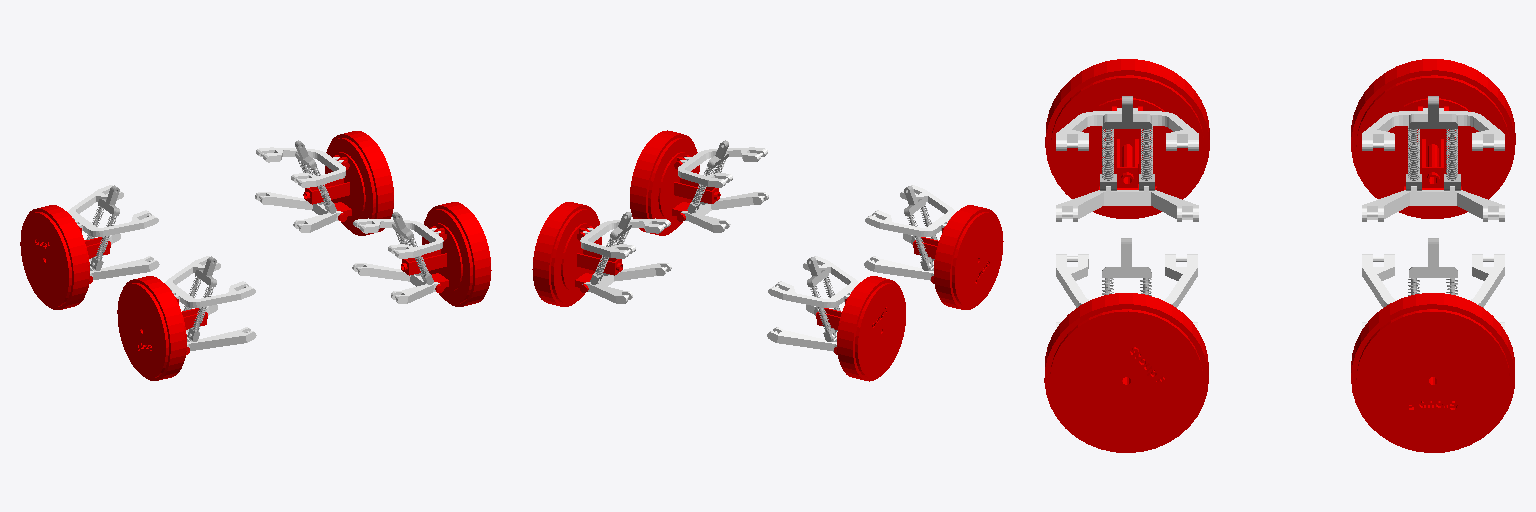
--- Render facts (derived) ---
The picture shows the robot from 3 angles, left to right: view 1: azimuth 30°, elevation 25°; view 2: azimuth 150°, elevation 25°; view 3: azimuth 270°, elevation 25°; orthographic projection.
Robot: prototype_urdf2 — 29 links, 28 joints (16 revolute, 4 continuous, 4 prismatic, 4 fixed); root link base_link; default pose: every joint at zero.
Links seen in each view (by area): view 1: Back_Right_Wheel, Front_Right_Wheel, Front_Left_Wheel, Back_Left_Wheel, Front_Left_Wheel_Connect_U, Back_Left_Wheel_Connect_U, Back_Right_Upper_Arm, Front_Right_Upper_Arm, Back_Left_Upper_Arm, Front_Left_Upper_Arm, Front_Left_Lower_Arm, Back_Left_Lower_Arm (+6 smaller); view 2: Front_Right_Wheel, Back_Right_Wheel, Back_Left_Wheel, Front_Left_Wheel, Back_Left_Wheel_Connect_U, Front_Left_Wheel_Connect_U, Front_Right_Upper_Arm, Back_Right_Upper_Arm, Front_Left_Upper_Arm, Back_Left_Upper_Arm, Front_Left_Lower_Arm, Back_Left_Lower_Arm (+6 smaller); view 3: Front_Left_Wheel, Back_Left_Wheel, Back_Right_Wheel, Front_Right_Wheel, Front_Right_Wheel_Connect_U, Back_Right_Wheel_Connect_U, Back_Right_Lower_Arm, Front_Right_Lower_Arm_S, Front_Right_Suspension, Back_Right_Suspension, Front_Right_Upper_Arm, Back_Right_Upper_Arm (+4 smaller).
Link boxes in pixels (x1,y1,x2,y2): Back_Right_Wheel: (20, 205, 110, 309); Front_Right_Wheel: (117, 276, 207, 380); Front_Left_Wheel: (401, 202, 491, 306); Back_Left_Wheel: (303, 131, 393, 235); Front_Left_Wheel_Connect_U: (402, 223, 462, 292); Back_Left_Wheel_Connect_U: (305, 152, 365, 221); Back_Right_Upper_Arm: (68, 185, 158, 236); Front_Right_Upper_Arm: (165, 256, 255, 307); Back_Left_Upper_Arm: (256, 147, 345, 187); Front_Left_Upper_Arm: (353, 218, 443, 258); Front_Left_Lower_Arm: (352, 263, 439, 303); Back_Left_Lower_Arm: (255, 192, 342, 232); Front_Right_Wheel: (913, 205, 1003, 309); Back_Right_Wheel: (816, 276, 905, 381); Back_Left_Wheel: (532, 202, 622, 306); Front_Left_Wheel: (630, 130, 720, 235); Back_Left_Wheel_Connect_U: (561, 223, 621, 292); Front_Left_Wheel_Connect_U: (658, 152, 718, 221); Front_Right_Upper_Arm: (865, 185, 955, 236); Back_Right_Upper_Arm: (768, 256, 858, 307); Front_Left_Upper_Arm: (678, 147, 767, 187); Back_Left_Upper_Arm: (580, 218, 670, 258); Front_Left_Lower_Arm: (681, 192, 768, 232); Back_Left_Lower_Arm: (582, 263, 671, 303); Front_Left_Wheel: (1044, 293, 1208, 452); Back_Left_Wheel: (1351, 293, 1514, 452); Back_Right_Wheel: (1351, 59, 1515, 218); Front_Right_Wheel: (1045, 59, 1209, 218); Front_Right_Wheel_Connect_U: (1073, 98, 1181, 189); Back_Right_Wheel_Connect_U: (1378, 98, 1487, 190); Back_Right_Lower_Arm: (1362, 186, 1504, 221); Front_Right_Lower_Arm_S: (1056, 186, 1198, 221); Front_Right_Suspension: (1100, 96, 1154, 190); Back_Right_Suspension: (1406, 96, 1460, 190); Front_Right_Upper_Arm: (1056, 108, 1198, 150); Back_Right_Upper_Arm: (1362, 108, 1504, 150).
Bounding box of the posed robot: 0.5398 × 0.4294 × 0.164 m (x, y, z).
20 mesh visuals loaded from 29 distinct referenced files (20 binary STL); not drawn: 9 (reference not matched to a file when rendering).

The robot description file, URDF, robot "prototype_urdf2":
<?xml version="1.0" encoding="utf-8"?>
<!-- This URDF was automatically created by SolidWorks to URDF Exporter! Originally created by Stephen Brawner ([email redacted]) 
     Commit Version: 1.5.1-0-g916b5db  Build Version: 1.5.7152.31018
     For more information, please see http://wiki.ros.org/sw_urdf_exporter -->
<robot
  name="prototype_urdf2">
  <link
    name="base_link">
    <inertial>
      <origin
        xyz="4.8151E-05 0.14906 0.14691"
        rpy="0 0 0" />
      <mass
        value="5.1718" />
      <inertia
        ixx="0.012199"
        ixy="-3.0277E-07"
        ixz="-0.00011127"
        iyy="0.072636"
        iyz="1.8521E-06"
        izz="0.068154" />
    </inertial>
    <visual>
      <origin
        xyz="0 0 0"
        rpy="0 0 0" />
      <geometry>
        <mesh
          filename="package://prototype_urdf2/meshes/base_link.STL" />
      </geometry>
      <material
        name="">
        <color
          rgba="0.75294 0.75294 0.75294 1" />
      </material>
    </visual>
    <collision>
      <origin
        xyz="0 0 0"
        rpy="0 0 0" />
      <geometry>
        <mesh
          filename="package://prototype_urdf2/meshes/base_link.STL" />
      </geometry>
    </collision>
  </link>
  <link
    name="Front_Left_Upper_Arm">
    <inertial>
      <origin
        xyz="6.6613E-16 0.0147 0.005"
        rpy="0 0 0" />
      <mass
        value="0.035646" />
      <inertia
        ixx="3.835E-05"
        ixy="1.5009E-18"
        ixz="4.9911E-19"
        iyy="6.6493E-05"
        iyz="1.8691E-20"
        izz="0.00010426" />
    </inertial>
    <visual>
      <origin
        xyz="0 0 0"
        rpy="0 0 0" />
      <geometry>
        <mesh
          filename="package://prototype_urdf2/meshes/Front_Left_Upper_Arm.STL" />
      </geometry>
      <material
        name="">
        <color
          rgba="1 1 1 1" />
      </material>
    </visual>
    <collision>
      <origin
        xyz="0 0 0"
        rpy="0 0 0" />
      <geometry>
        <mesh
          filename="package://prototype_urdf2/meshes/Front_Left_Upper_Arm.STL" />
      </geometry>
    </collision>
  </link>
  <joint
    name="base_joint_FLUA"
    type="revolute">
    <origin
      xyz="0.15448 -0.14429 0.12049"
      rpy="-0.1407 0 -1.5726" />
    <parent
      link="base_link" />
    <child
      link="Front_Left_Upper_Arm" />
    <axis
      xyz="-1 0 0" />
    <limit
      lower="0"
      upper="0"
      effort="0"
      velocity="0" />
  </joint>
  <link
    name="Front_Left_Wheel_Connect_U">
    <inertial>
      <origin
        xyz="1.9429E-16 -0.011825 -0.0047437"
        rpy="0 0 0" />
      <mass
        value="4.2725E-05" />
      <inertia
        ixx="4.0077E-08"
        ixy="-4.7098E-23"
        ixz="1.4089E-23"
        iyy="4.5681E-08"
        iyz="-1.4715E-09"
        izz="2.8052E-08" />
    </inertial>
    <visual>
      <origin
        xyz="0 0 0"
        rpy="0 0 0" />
      <geometry>
        <mesh
          filename="package://prototype_urdf2/meshes/Front_Left_Wheel_Connect_U.STL" />
      </geometry>
      <material
        name="">
        <color
          rgba="1 0 0 1" />
      </material>
    </visual>
    <collision>
      <origin
        xyz="0 0 0"
        rpy="0 0 0" />
      <geometry>
        <mesh
          filename="package://prototype_urdf2/meshes/Front_Left_Wheel_Connect_U.STL" />
      </geometry>
    </collision>
  </link>
  <joint
    name="FLUA_joint_FLWC"
    type="revolute">
    <origin
      xyz="0 0.084743 -0.032957"
      rpy="0.1407 0 0" />
    <parent
      link="Front_Left_Upper_Arm" />
    <child
      link="Front_Left_Wheel_Connect_U" />
    <axis
      xyz="1 0 0" />
    <limit
      lower="0"
      upper="0"
      effort="0"
      velocity="0" />
  </joint>
  <link
    name="Front_Left_Wheel">
    <inertial>
      <origin
        xyz="1.4086E-06 -0.018579 -3.15E-05"
        rpy="0 0 0" />
      <mass
        value="0.0005833" />
      <inertia
        ixx="8.6958E-07"
        ixy="1.2157E-11"
        ixz="-1.9549E-11"
        iyy="1.6137E-06"
        iyz="-2.7388E-10"
        izz="8.6989E-07" />
    </inertial>
    <visual>
      <origin
        xyz="0 0 0"
        rpy="0 0 0" />
      <geometry>
        <mesh
          filename="package://prototype_urdf2/meshes/Front_Left_Wheel.STL" />
      </geometry>
      <material
        name="">
        <color
          rgba="1 0 0 1" />
      </material>
    </visual>
    <collision>
      <origin
        xyz="0 0 0"
        rpy="0 0 0" />
      <geometry>
        <mesh
          filename="package://prototype_urdf2/meshes/Front_Left_Wheel.STL" />
      </geometry>
    </collision>
  </link>
  <joint
    name="FLWC_joint_FLW"
    type="continuous">
    <origin
      xyz="0 0 0"
      rpy="0 0.87883 -3.1416" />
    <parent
      link="Front_Left_Wheel_Connect_U" />
    <child
      link="Front_Left_Wheel" />
    <axis
      xyz="0 1 0" />
    <limit
      effort="3.1"
      velocity="7" />
    <dynamics
      damping="0"
      friction="0" />
  </joint>
  <link
    name="Front_Left_Lower_Arm">
    <inertial>
      <origin
        xyz="-2.7756E-17 0.013612 0.0065523"
        rpy="0 0 0" />
      <mass
        value="0.037752" />
      <inertia
        ixx="2.6733E-05"
        ixy="-1.1805E-19"
        ixz="-7.6023E-20"
        iyy="6.0063E-05"
        iyz="-2.223E-07"
        izz="8.5645E-05" />
    </inertial>
    <visual>
      <origin
        xyz="0 0 0"
        rpy="0 0 0" />
      <geometry>
        <mesh
          filename="package://prototype_urdf2/meshes/Front_Left_Lower_Arm.STL" />
      </geometry>
      <material
        name="">
        <color
          rgba="1 1 1 1" />
      </material>
    </visual>
    <collision>
      <origin
        xyz="0 0 0"
        rpy="0 0 0" />
      <geometry>
        <mesh
          filename="package://prototype_urdf2/meshes/Front_Left_Lower_Arm.STL" />
      </geometry>
    </collision>
  </link>
  <joint
    name="base_joint_FLLA"
    type="revolute">
    <origin
      xyz="0.14944 -0.14428 0.047772"
      rpy="-0.21347 0 -1.5726" />
    <parent
      link="base_link" />
    <child
      link="Front_Left_Lower_Arm" />
    <axis
      xyz="1 0 0" />
    <limit
      lower="0"
      upper="0"
      effort="0"
      velocity="0" />
  </joint>
  <link
    name="Front_Left_Wheel_Connect_L">
    <inertial>
      <origin
        xyz="1.66533453693773E-16 -0.01182470467978 -0.00474369285104252"
        rpy="0 0 0" />
      <mass
        value="4.27254738673187E-05" />
      <inertia
        ixx="4.00769893258482E-08"
        ixy="-3.38045451895694E-23"
        ixz="1.64898971111911E-23"
        iyy="4.56805348900452E-08"
        iyz="-1.47149337236907E-09"
        izz="2.805162477184E-08" />
    </inertial>
    <visual>
      <origin
        xyz="0 0 0"
        rpy="0 0 0" />
      <geometry>
        <mesh
          filename="package://prototype_urdf2/meshes/Front_Left_Wheel_Connect_L.STL" />
      </geometry>
      <material
        name="">
        <color
          rgba="1 0 0 1" />
      </material>
    </visual>
    <collision>
      <origin
        xyz="0 0 0"
        rpy="0 0 0" />
      <geometry>
        <mesh
          filename="package://prototype_urdf2/meshes/Front_Left_Wheel_Connect_L.STL" />
      </geometry>
    </collision>
  </link>
  <joint
    name="FLLA_joint_FLWC"
    type="revolute">
    <origin
      xyz="0 0.076435 0.045428"
      rpy="0.21347 0 0" />
    <parent
      link="Front_Left_Lower_Arm" />
    <child
      link="Front_Left_Wheel_Connect_L" />
    <axis
      xyz="-1 0 0" />
    <limit
      lower="0"
      upper="0"
      effort="0"
      velocity="0" />
  </joint>
  <link
    name="Front_Left_Suspension">
    <inertial>
      <origin
        xyz="-0.02505 0.0053253 0.057836"
        rpy="0 0 0" />
      <mass
        value="0.097501" />
      <inertia
        ixx="7.9254E-06"
        ixy="2.402E-09"
        ixz="2.0772E-08"
        iyy="1.8592E-05"
        iyz="-7.2341E-07"
        izz="1.2438E-05" />
    </inertial>
    <visual>
      <origin
        xyz="0 0 0"
        rpy="0 0 0" />
      <geometry>
        <mesh
          filename="package://prototype_urdf2/meshes/Front_Left_Suspension.STL" />
      </geometry>
      <material
        name="">
        <color
          rgba="0.75294 0.75294 0.75294 1" />
      </material>
    </visual>
    <collision>
      <origin
        xyz="0 0 0"
        rpy="0 0 0" />
      <geometry>
        <mesh
          filename="package://prototype_urdf2/meshes/Front_Left_Suspension.STL" />
      </geometry>
    </collision>
  </link>
  <joint
    name="base_joint_FLS"
    type="prismatic">
    <origin
      xyz="0.16284 -0.086237 0.1322"
      rpy="-1.4553 -1.1874 3.1397" />
    <parent
      link="base_link" />
    <child
      link="Front_Left_Suspension" />
    <axis
      xyz="0 -0.11521 -0.99334" />
    <limit
      lower="-0.04"
      upper="0"
      effort="1000"
      velocity="1000" />
    <dynamics
      damping="0"
      friction="0" />
  </joint>
  <link
    name="Front_Left_Lower_Arm_S">
    <inertial>
      <origin
        xyz="-2.77555756156289E-17 0.013612079592021 0.00655228418322651"
        rpy="0 0 0" />
      <mass
        value="0.0377520303994239" />
      <inertia
        ixx="2.67333578708892E-05"
        ixy="-1.1777728433775E-19"
        ixz="-7.73430416349332E-20"
        iyy="6.00628817070965E-05"
        iyz="-2.22296810574117E-07"
        izz="8.56446705491993E-05" />
    </inertial>
    <visual>
      <origin
        xyz="0 0 0"
        rpy="0 0 0" />
      <geometry>
        <mesh
          filename="package://prototype_urdf2/meshes/Front_Left_Lower_Arm_S.STL" />
      </geometry>
      <material
        name="">
        <color
          rgba="1 1 1 1" />
      </material>
    </visual>
    <collision>
      <origin
        xyz="0 0 0"
        rpy="0 0 0" />
      <geometry>
        <mesh
          filename="package://prototype_urdf2/meshes/Front_Left_Lower_Arm_S.STL" />
      </geometry>
    </collision>
  </link>
  <joint
    name="FLS_joint_FLLA"
    type="fixed">
    <origin
      xyz="-0.073326 0.050307 0.052619"
      rpy="0.97395 -1.4553 1.5708" />
    <parent
      link="Front_Left_Suspension" />
    <child
      link="Front_Left_Lower_Arm_S" />
    <axis
      xyz="0 0 0" />
    <dynamics
      damping="0"
      friction="0" />
  </joint>
  <link
    name="Back_Left_Upper_Arm">
    <inertial>
      <origin
        xyz="2.77555756156289E-17 -0.0147001536622141 -0.005"
        rpy="0 0 0" />
      <mass
        value="0.0356457256760713" />
      <inertia
        ixx="3.83497573600796E-05"
        ixy="-8.08469759769435E-20"
        ixz="-2.31852808455335E-20"
        iyy="6.64927053825921E-05"
        iyz="-2.71050543121376E-20"
        izz="0.000104259142609384" />
    </inertial>
    <visual>
      <origin
        xyz="0 0 0"
        rpy="0 0 0" />
      <geometry>
        <mesh
          filename="package://prototype_urdf2/meshes/Back_Left_Upper_Arm.STL" />
      </geometry>
      <material
        name="">
        <color
          rgba="1 1 1 1" />
      </material>
    </visual>
    <collision>
      <origin
        xyz="0 0 0"
        rpy="0 0 0" />
      <geometry>
        <mesh
          filename="package://prototype_urdf2/meshes/Back_Left_Upper_Arm.STL" />
      </geometry>
    </collision>
  </link>
  <joint
    name="base_joint_BLUA"
    type="revolute">
    <origin
      xyz="0.15447 0.135 0.12049"
      rpy="3.0009 0 -1.5708" />
    <parent
      link="base_link" />
    <child
      link="Back_Left_Upper_Arm" />
    <axis
      xyz="1 0 0" />
    <limit
      lower="0"
      upper="0"
      effort="0"
      velocity="0" />
  </joint>
  <link
    name="Back_Left_Wheel_Connect_U">
    <inertial>
      <origin
        xyz="-1.3878E-16 0.011825 0.0047439"
        rpy="0 0 0" />
      <mass
        value="4.2725E-05" />
      <inertia
        ixx="4.0077E-08"
        ixy="-2.4975E-23"
        ixz="6.5432E-24"
        iyy="4.5681E-08"
        iyz="-1.4715E-09"
        izz="2.8052E-08" />
    </inertial>
    <visual>
      <origin
        xyz="0 0 0"
        rpy="0 0 0" />
      <geometry>
        <mesh
          filename="package://prototype_urdf2/meshes/Back_Left_Wheel_Connect_U.STL" />
      </geometry>
      <material
        name="">
        <color
          rgba="1 0 0 1" />
      </material>
    </visual>
    <collision>
      <origin
        xyz="0 0 0"
        rpy="0 0 0" />
      <geometry>
        <mesh
          filename="package://prototype_urdf2/meshes/Back_Left_Wheel_Connect_U.STL" />
      </geometry>
    </collision>
  </link>
  <joint
    name="BLUA_joint_BLWC"
    type="revolute">
    <origin
      xyz="0 -0.084743 0.032957"
      rpy="0.1407 0 0" />
    <parent
      link="Back_Left_Upper_Arm" />
    <child
      link="Back_Left_Wheel_Connect_U" />
    <axis
      xyz="1 0 0" />
    <limit
      lower="0"
      upper="0"
      effort="0"
      velocity="0" />
  </joint>
  <link
    name="Back_Left_Wheel">
    <inertial>
      <origin
        xyz="1.40862745898196E-06 -0.0185785956024857 -3.13163303364006E-05"
        rpy="0 0 0" />
      <mass
        value="0.000583296678332389" />
      <inertia
        ixx="8.6958020227038E-07"
        ixy="1.2156654097372E-11"
        ixz="-1.95489792553624E-11"
        iyy="1.61370446750533E-06"
        iyz="-2.73880661125538E-10"
        izz="8.69890840625022E-07" />
    </inertial>
    <visual>
      <origin
        xyz="0 0 0"
        rpy="0 0 0" />
      <geometry>
        <mesh
          filename="package://prototype_urdf2/meshes/Back_Left_Wheel.STL" />
      </geometry>
      <material
        name="">
        <color
          rgba="1 0 0 1" />
      </material>
    </visual>
    <collision>
      <origin
        xyz="0 0 0"
        rpy="0 0 0" />
      <geometry>
        <mesh
          filename="package://prototype_urdf2/meshes/Back_Left_Wheel.STL" />
      </geometry>
    </collision>
  </link>
  <joint
    name="BLWC_joint_BLW"
    type="continuous">
    <origin
      xyz="0 0 0"
      rpy="0 0 0" />
    <parent
      link="Back_Left_Wheel_Connect_U" />
    <child
      link="Back_Left_Wheel" />
    <axis
      xyz="0 1 0" />
    <limit
      effort="3.1"
      velocity="7" />
  </joint>
  <link
    name="Back_Left_Lower_Arm">
    <inertial>
      <origin
        xyz="2.77555756156289E-17 -0.0136120795920238 -0.00655228418322451"
        rpy="0 0 0" />
      <mass
        value="0.0377520303994239" />
      <inertia
        ixx="2.67333578708892E-05"
        ixy="-1.0339645159441E-19"
        ixz="-5.57410387269857E-20"
        iyy="6.00628817070965E-05"
        iyz="-2.22296810574141E-07"
        izz="8.56446705491993E-05" />
    </inertial>
    <visual>
      <origin
        xyz="0 0 0"
        rpy="0 0 0" />
      <geometry>
        <mesh
          filename="package://prototype_urdf2/meshes/Back_Left_Lower_Arm.STL" />
      </geometry>
      <material
        name="">
        <color
          rgba="1 1 1 1" />
      </material>
    </visual>
    <collision>
      <origin
        xyz="0 0 0"
        rpy="0 0 0" />
      <geometry>
        <mesh
          filename="package://prototype_urdf2/meshes/Back_Left_Lower_Arm.STL" />
      </geometry>
    </collision>
  </link>
  <joint
    name="base_joint_BLLA"
    type="revolute">
    <origin
      xyz="0.14944 0.135 0.047772"
      rpy="2.9281 0 -1.5708" />
    <parent
      link="base_link" />
    <child
      link="Back_Left_Lower_Arm" />
    <axis
      xyz="1 0 0" />
    <limit
      lower="0"
      upper="0"
      effort="0"
      velocity="0" />
  </joint>
  <link
    name="Back_Left_Wheel_Connect_L">
    <inertial>
      <origin
        xyz="-1.38777878078145E-16 0.0118247046797822 0.00474387706085233"
        rpy="0 0 0" />
      <mass
        value="4.27254738673186E-05" />
      <inertia
        ixx="4.0076989325848E-08"
        ixy="-2.49245205610583E-23"
        ixz="6.44597877411744E-24"
        iyy="4.56805348900451E-08"
        iyz="-1.47149337236906E-09"
        izz="2.805162477184E-08" />
    </inertial>
    <visual>
      <origin
        xyz="0 0 0"
        rpy="0 0 0" />
      <geometry>
        <mesh
          filename="package://prototype_urdf2/meshes/Back_Left_Wheel_Connect_L.STL" />
      </geometry>
      <material
        name="">
        <color
          rgba="1 0 0 1" />
      </material>
    </visual>
    <collision>
      <origin
        xyz="0 0 0"
        rpy="0 0 0" />
      <geometry>
        <mesh
          filename="package://prototype_urdf2/meshes/Back_Left_Wheel_Connect_L.STL" />
      </geometry>
    </collision>
  </link>
  <joint
    name="BLLA_joint_BLWC"
    type="revolute">
    <origin
      xyz="0 -0.076435 -0.045428"
      rpy="0.21347 0 0" />
    <parent
      link="Back_Left_Lower_Arm" />
    <child
      link="Back_Left_Wheel_Connect_L" />
    <axis
      xyz="-1 0 0" />
    <limit
      lower="0"
      upper="0"
      effort="0"
      velocity="0" />
  </joint>
  <link
    name="Back_Left_Suspension">
    <inertial>
      <origin
        xyz="-0.0250501195396812 0.00532528573434377 0.0578364361373781"
        rpy="0 0 0" />
      <mass
        value="0.0975010516337178" />
      <inertia
        ixx="7.92535130270424E-06"
        ixy="2.40205751875798E-09"
        ixz="2.07721001720025E-08"
        iyy="1.85918479783726E-05"
        iyz="-7.23412240509213E-07"
        izz="1.24383810777078E-05" />
    </inertial>
    <visual>
      <origin
        xyz="0 0 0"
        rpy="0 0 0" />
      <geometry>
        <mesh
          filename="package://prototype_urdf2/meshes/Back_Left_Suspension.STL" />
      </geometry>
      <material
        name="">
        <color
          rgba="0.752941176470588 0.752941176470588 0.752941176470588 1" />
      </material>
    </visual>
    <collision>
      <origin
        xyz="0 0 0"
        rpy="0 0 0" />
      <geometry>
        <mesh
          filename="package://prototype_urdf2/meshes/Back_Left_Suspension.STL" />
      </geometry>
    </collision>
  </link>
  <joint
    name="base_joint_BLS"
    type="prismatic">
    <origin
      xyz="0.16528 0.076934 0.13323"
      rpy="1.6863 -1.1874 -3.1416" />
    <parent
      link="base_link" />
    <child
      link="Back_Left_Suspension" />
    <axis
      xyz="0 -0.11521 -0.99334" />
    <limit
      lower="-0.04"
      upper="0"
      effort="1000"
      velocity="1000" />
    <dynamics
      damping="0"
      friction="0" />
  </joint>
  <link
    name="Back_Left_Upper_Arm_S">
    <inertial>
      <origin
        xyz="5.8287E-16 -0.013612 -0.0065523"
        rpy="0 0 0" />
      <mass
        value="0.037752" />
      <inertia
        ixx="2.6733E-05"
        ixy="-1.0752E-19"
        ixz="-5.4113E-20"
        iyy="6.0063E-05"
        iyz="-2.223E-07"
        izz="8.5645E-05" />
    </inertial>
    <visual>
      <origin
        xyz="0 0 0"
        rpy="0 0 0" />
      <geometry>
        <mesh
          filename="package://prototype_urdf2/meshes/Back_Left_Upper_Arm_S.STL" />
      </geometry>
      <material
        name="">
        <color
          rgba="1 1 1 1" />
      </material>
    </visual>
    <collision>
      <origin
        xyz="0 0 0"
        rpy="0 0 0" />
      <geometry>
        <mesh
          filename="package://prototype_urdf2/meshes/Back_Left_Upper_Arm_S.STL" />
      </geometry>
    </collision>
  </link>
  <joint
    name="BLS_joint_BLUA"
    type="fixed">
    <origin
      xyz="-0.073326 -0.039657 0.063053"
      rpy="0.97395 1.4553 -1.5708" />
    <parent
      link="Back_Left_Suspension" />
    <child
      link="Back_Left_Upper_Arm_S" />
    <axis
      xyz="-1 0 0" />
  </joint>
  <link
    name="Front_Right_Upper_Arm">
    <inertial>
      <origin
        xyz="-1.11022302462516E-16 0.0147001536622058 0.00499999999999509"
        rpy="0 0 0" />
      <mass
        value="0.0356457256760713" />
      <inertia
        ixx="3.83497573600796E-05"
        ixy="1.17433177202928E-19"
        ixz="-1.48348225416485E-19"
        iyy="6.64927053825921E-05"
        iyz="-2.47566530101826E-20"
        izz="0.000104259142609384" />
    </inertial>
    <visual>
      <origin
        xyz="0 0 0"
        rpy="0 0 0" />
      <geometry>
        <mesh
          filename="package://prototype_urdf2/meshes/Front_Right_Upper_Arm.STL" />
      </geometry>
      <material
        name="">
        <color
          rgba="1 1 1 1" />
      </material>
    </visual>
    <collision>
      <origin
        xyz="0 0 0"
        rpy="0 0 0" />
      <geometry>
        <mesh
          filename="package://prototype_urdf2/meshes/Front_Right_Upper_Arm.STL" />
      </geometry>
    </collision>
  </link>
  <joint
    name="base_joint_FRUA"
    type="revolute">
    <origin
      xyz="-0.15588 -0.14371 0.13039"
      rpy="-3.0009 0 -1.5726" />
    <parent
      link="base_link" />
    <child
      link="Front_Right_Upper_Arm" />
    <axis
      xyz="1 0 0" />
    <limit
      lower="0"
      upper="0"
      effort="0"
      velocity="0" />
  </joint>
  <link
    name="Front_Right_Wheel_Connect_U">
    <inertial>
      <origin
        xyz="-1.41553435639707E-15 -0.0118247046797807 -0.00474369285104376"
        rpy="0 0 0" />
      <mass
        value="4.27254738673187E-05" />
      <inertia
        ixx="4.00769893258482E-08"
        ixy="6.45672629234458E-22"
        ixz="-1.60242471358E-22"
        iyy="4.56805348900447E-08"
        iyz="-1.47149337237219E-09"
        izz="2.80516247718406E-08" />
    </inertial>
    <visual>
      <origin
        xyz="0 0 0"
        rpy="0 0 0" />
      <geometry>
        <mesh
          filename="package://prototype_urdf2/meshes/Front_Right_Wheel_Connect_U.STL" />
      </geometry>
      <material
        name="">
        <color
          rgba="1 0 0 1" />
      </material>
    </visual>
    <collision>
      <origin
        xyz="0 0 0"
        rpy="0 0 0" />
      <geometry>
        <mesh
          filename="package://prototype_urdf2/meshes/Front_Right_Wheel_Connect_U.STL" />
      </geometry>
    </collision>
  </link>
  <joint
    name="FRUA_joint_FRWC"
    type="revolute">
    <origin
      xyz="0 0.084743 0.042957"
      rpy="-3.0009 0 3.1416" />
    <parent
      link="Front_Right_Upper_Arm" />
    <child
      link="Front_Right_Wheel_Connect_U" />
    <axis
      xyz="-1 0 0" />
    <limit
      lower="0"
      upper="0"
      effort="0"
      velocity="0" />
  </joint>
  <link
    name="Front_Right_Wheel">
    <inertial>
      <origin
        xyz="1.4086323996132E-06 -0.0185785955621235 -3.15006737992771E-05"
        rpy="0 0 0" />
      <mass
        value="0.000583296673656307" />
      <inertia
        ixx="8.69580200457977E-07"
        ixy="1.21569821151188E-11"
        ixz="-1.95491137831547E-11"
        iyy="1.61370446559763E-06"
        iyz="-2.73881322125108E-10"
        izz="8.69890839854235E-07" />
    </inertial>
    <visual>
      <origin
        xyz="0 0 0"
        rpy="0 0 0" />
      <geometry>
        <mesh
          filename="package://prototype_urdf2/meshes/Front_Right_Wheel.STL" />
      </geometry>
      <material
        name="">
        <color
          rgba="1 0 0 1" />
      </material>
    </visual>
    <collision>
      <origin
        xyz="0 0 0"
        rpy="0 0 0" />
      <geometry>
        <mesh
          filename="package://prototype_urdf2/meshes/Front_Right_Wheel.STL" />
      </geometry>
    </collision>
  </link>
  <joint
    name="FRWC_joint_FRW"
    type="continuous">
    <origin
      xyz="0 0 0"
      rpy="3.1416 0.38134 0" />
    <parent
      link="Front_Right_Wheel_Connect_U" />
    <child
      link="Front_Right_Wheel" />
    <axis
      xyz="0 1 0" />
    <limit
      effort="3.1"
      velocity="7" />
  </joint>
  <link
    name="Front_Right_Lower_Arm">
    <inertial>
      <origin
        xyz="-9.71445146547012E-16 0.0136120795920207 0.00655228418323024"
        rpy="0 0 0" />
      <mass
        value="0.0377520303994239" />
      <inertia
        ixx="2.67333578708891E-05"
        ixy="-2.17577617859008E-18"
        ixz="-7.82215074454645E-19"
        iyy="6.00628817070964E-05"
        iyz="-2.22296810576787E-07"
        izz="8.56446705491991E-05" />
    </inertial>
    <visual>
      <origin
        xyz="0 0 0"
        rpy="0 0 0" />
      <geometry>
        <mesh
          filename="package://prototype_urdf2/meshes/Front_Right_Lower_Arm.STL" />
      </geometry>
      <material
        name="">
        <color
          rgba="1 1 1 1" />
      </material>
    </visual>
    <collision>
      <origin
        xyz="0 0 0"
        rpy="0 0 0" />
      <geometry>
        <mesh
          filename="package://prototype_urdf2/meshes/Front_Right_Lower_Arm.STL" />
      </geometry>
    </collision>
  </link>
  <joint
    name="base_joint_FRLA"
    type="revolute">
    <origin
      xyz="-0.14944 -0.14372 0.047772"
      rpy="-0.21347 0 1.5689" />
    <parent
      link="base_link" />
    <child
      link="Front_Right_Lower_Arm" />
    <axis
      xyz="1 0 0" />
    <limit
      lower="0"
      upper="0"
      effort="0"
      velocity="0" />
  </joint>
  <link
    name="Front_Right_Wheel_Connect_L">
    <inertial>
      <origin
        xyz="-1.41553435639707E-15 -0.0118247046797851 -0.00474369285103179"
        rpy="0 0 0" />
      <mass
        value="4.27254738673187E-05" />
      <inertia
        ixx="4.00769893258482E-08"
        ixy="6.45840650296383E-22"
        ixz="-1.60075258105049E-22"
        iyy="4.56805348900447E-08"
        iyz="-1.47149337237219E-09"
        izz="2.80516247718406E-08" />
    </inertial>
    <visual>
      <origin
        xyz="0 0 0"
        rpy="0 0 0" />
      <geometry>
        <mesh
          filename="package://prototype_urdf2/meshes/Front_Right_Wheel_Connect_L.STL" />
      </geometry>
      <material
        name="">
        <color
          rgba="1 0 0 1" />
      </material>
    </visual>
    <collision>
      <origin
        xyz="0 0 0"
        rpy="0 0 0" />
      <geometry>
        <mesh
          filename="package://prototype_urdf2/meshes/Front_Right_Wheel_Connect_L.STL" />
      </geometry>
    </collision>
  </link>
  <joint
    name="FRLA_joint_FRWC"
    type="revolute">
    <origin
      xyz="0 0.076435 0.045428"
      rpy="0.21347 0 0" />
    <parent
      link="Front_Right_Lower_Arm" />
    <child
      link="Front_Right_Wheel_Connect_L" />
    <axis
      xyz="-1 0 0" />
    <limit
      lower="0"
      upper="0"
      effort="0"
      velocity="0" />
  </joint>
  <link
    name="Front_Right_Suspension">
    <inertial>
      <origin
        xyz="-0.025050119534153 0.00532528572925309 0.0578364361376996"
        rpy="0 0 0" />
      <mass
        value="0.0975010516234581" />
      <inertia
        ixx="7.92535130195144E-06"
        ixy="2.4020624093064E-09"
        ixz="2.07721001697917E-08"
        iyy="1.8591847980283E-05"
        iyz="-7.23412238881963E-07"
        izz="1.24383810794388E-05" />
    </inertial>
    <visual>
      <origin
        xyz="0 0 0"
        rpy="0 0 0" />
      <geometry>
        <mesh
          filename="package://prototype_urdf2/meshes/Front_Right_Suspension.STL" />
      </geometry>
      <material
        name="">
        <color
          rgba="0.752941176470588 0.752941176470588 0.752941176470588 1" />
      </material>
    </visual>
    <collision>
      <origin
        xyz="0 0 0"
        rpy="0 0 0" />
      <geometry>
        <mesh
          filename="package://prototype_urdf2/meshes/Front_Right_Suspension.STL" />
      </geometry>
    </collision>
  </link>
  <joint
    name="base_joint_FRS"
    type="prismatic">
    <origin
      xyz="-0.16517 -0.08563 0.13323"
      rpy="1.6863 -1.1874 -0.0018512" />
    <parent
      link="base_link" />
    <child
      link="Front_Right_Suspension" />
    <axis
      xyz="0 -0.11521 -0.99334" />
    <limit
      lower="-0.04"
      upper="0"
      effort="1000"
      velocity="1000" />
  </joint>
  <link
    name="Front_Right_Lower_Arm_S">
    <inertial>
      <origin
        xyz="-1.02695629777827E-15 0.0136120795920232 0.0065522841832287"
        rpy="0 0 0" />
      <mass
        value="0.0377520303994238" />
      <inertia
        ixx="2.67333578708891E-05"
        ixy="-2.19549616439335E-18"
        ixz="-7.82830496830385E-19"
        iyy="6.00628817070964E-05"
        iyz="-2.22296810576787E-07"
        izz="8.56446705491992E-05" />
    </inertial>
    <visual>
      <origin
        xyz="0 0 0"
        rpy="0 0 0" />
      <geometry>
        <mesh
          filename="package://prototype_urdf2/meshes/Front_Right_Lower_Arm_S.STL" />
      </geometry>
      <material
        name="">
        <color
          rgba="1 1 1 1" />
      </material>
    </visual>
    <collision>
      <origin
        xyz="0 0 0"
        rpy="0 0 0" />
      <geometry>
        <mesh
          filename="package://prototype_urdf2/meshes/Front_Right_Lower_Arm_S.STL" />
      </geometry>
    </collision>
  </link>
  <joint
    name="FRS_joint_FRLA"
    type="fixed">
    <origin
      xyz="-0.073326 -0.039657 0.063053"
      rpy="-2.1676 1.4553 -1.5708" />
    <parent
      link="Front_Right_Suspension" />
    <child
      link="Front_Right_Lower_Arm_S" />
    <axis
      xyz="-1 0 0" />
  </joint>
  <link
    name="Back_Right_Upper_Arm">
    <inertial>
      <origin
        xyz="-2.77555756156289E-17 0.0127333626706839 0.00888571847345739"
        rpy="0 0 0" />
      <mass
        value="0.0356457256760713" />
      <inertia
        ixx="3.83497573600796E-05"
        ixy="1.20745472750592E-21"
        ixz="-5.73648270196137E-21"
        iyy="6.94053826276099E-05"
        iyz="-1.00756018977639E-05"
        izz="0.000101346465364366" />
    </inertial>
    <visual>
      <origin
        xyz="0 0 0"
        rpy="0 0 0" />
      <geometry>
        <mesh
          filename="package://prototype_urdf2/meshes/Back_Right_Upper_Arm.STL" />
      </geometry>
      <material
        name="">
        <color
          rgba="1 1 1 1" />
      </material>
    </visual>
    <collision>
      <origin
        xyz="0 0 0"
        rpy="0 0 0" />
      <geometry>
        <mesh
          filename="package://prototype_urdf2/meshes/Back_Right_Upper_Arm.STL" />
      </geometry>
    </collision>
  </link>
  <joint
    name="base_joint_BRUA"
    type="revolute">
    <origin
      xyz="-0.15588 0.135 0.13039"
      rpy="3.0009 0 -1.5708" />
    <parent
      link="base_link" />
    <child
      link="Back_Right_Upper_Arm" />
    <axis
      xyz="1 0 0" />
    <limit
      lower="0"
      upper="0"
      effort="0"
      velocity="0" />
  </joint>
  <link
    name="Back_Right_Wheel_Connect_U">
    <inertial>
      <origin
        xyz="-1.19348975147204E-15 0.0118246651845647 0.00474369285103651"
        rpy="0 0 0" />
      <mass
        value="4.27254738673186E-05" />
      <inertia
        ixx="4.00769893258481E-08"
        ixy="1.68109028574327E-24"
        ixz="-4.64395195790113E-24"
        iyy="4.56805348900451E-08"
        iyz="-1.47149337236923E-09"
        izz="2.80516247718401E-08" />
    </inertial>
    <visual>
      <origin
        xyz="0 0 0"
        rpy="0 0 0" />
      <geometry>
        <mesh
          filename="package://prototype_urdf2/meshes/Back_Right_Wheel_Connect_U.STL" />
      </geometry>
      <material
        name="">
        <color
          rgba="1 0 0 1" />
      </material>
    </visual>
    <collision>
      <origin
        xyz="0 0 0"
        rpy="0 0 0" />
      <geometry>
        <mesh
          filename="package://prototype_urdf2/meshes/Back_Right_Wheel_Connect_U.STL" />
      </geometry>
    </collision>
  </link>
  <joint
    name="BRUA_joint_BRWC"
    type="revolute">
    <origin
      xyz="0 0.069481 0.064801"
      rpy="-0.14071 0 3.1416" />
    <parent
      link="Back_Right_Upper_Arm" />
    <child
      link="Back_Right_Wheel_Connect_U" />
    <axis
      xyz="-1 0 0" />
    <limit
      lower="0"
      upper="0"
      effort="0"
      velocity="0" />
  </joint>
  <link
    name="Back_Right_Wheel">
    <inertial>
      <origin
        xyz="1.40862745938442E-06 -0.0185786350977028 -3.15005401522739E-05"
        rpy="0 0 0" />
      <mass
        value="0.000583296678332387" />
      <inertia
        ixx="8.69580202270378E-07"
        ixy="1.21566541036994E-11"
        ixz="-1.95489792557145E-11"
        iyy="1.61370446750533E-06"
        iyz="-2.73880661124133E-10"
        izz="8.69890840625018E-07" />
    </inertial>
    <visual>
      <origin
        xyz="0 0 0"
        rpy="0 0 0" />
      <geometry>
        <mesh
          filename="package://prototype_urdf2/meshes/Back_Right_Wheel.STL" />
      </geometry>
      <material
        name="">
        <color
          rgba="1 0 0 1" />
      </material>
    </visual>
    <collision>
      <origin
        xyz="0 0 0"
        rpy="0 0 0" />
      <geometry>
        <mesh
          filename="package://prototype_urdf2/meshes/Back_Right_Wheel.STL" />
      </geometry>
    </collision>
  </link>
  <joint
    name="BRWC_joint_BRW"
    type="continuous">
    <origin
      xyz="0 0 0"
      rpy="3.1416 0.26012 3.1416" />
    <parent
      link="Back_Right_Wheel_Connect_U" />
    <child
      link="Back_Right_Wheel" />
    <axis
      xyz="0 1 0" />
    <limit
      effort="3.1"
      velocity="7" />
  </joint>
  <link
    name="Back_Right_Lower_Arm">
    <inertial>
      <origin
        xyz="2.77555756156289E-17 -0.0151034357011666 -0.000327671875584697"
        rpy="0 0 0" />
      <mass
        value="0.0377520303994239" />
      <inertia
        ixx="2.67333578708892E-05"
        ixy="1.00807927757276E-20"
        ixz="-3.16035372917846E-21"
        iyy="6.42816105258092E-05"
        iyz="9.49601878939577E-06"
        izz="8.14259417304866E-05" />
    </inertial>
    <visual>
      <origin
        xyz="0 0 0"
        rpy="0 0 0" />
      <geometry>
        <mesh
          filename="package://prototype_urdf2/meshes/Back_Right_Lower_Arm.STL" />
      </geometry>
      <material
        name="">
        <color
          rgba="1 1 1 1" />
      </material>
    </visual>
    <collision>
      <origin
        xyz="0 0 0"
        rpy="0 0 0" />
      <geometry>
        <mesh
          filename="package://prototype_urdf2/meshes/Back_Right_Lower_Arm.STL" />
      </geometry>
    </collision>
  </link>
  <joint
    name="base_joint_BRLA"
    type="revolute">
    <origin
      xyz="-0.14944 0.135 0.047772"
      rpy="-2.9281 0 1.5708" />
    <parent
      link="base_link" />
    <child
      link="Back_Right_Lower_Arm" />
    <axis
      xyz="1 0 0" />
    <limit
      lower="0"
      upper="0"
      effort="0"
      velocity="0" />
  </joint>
  <link
    name="Back_Right_Wheel_Connect_L">
    <inertial>
      <origin
        xyz="-1.22124532708767E-15 0.0118246651845647 0.00474369285103653"
        rpy="0 0 0" />
      <mass
        value="4.27254738673186E-05" />
      <inertia
        ixx="4.00769893258481E-08"
        ixy="1.68389606891831E-24"
        ixz="-4.65712277444244E-24"
        iyy="4.56805348900451E-08"
        iyz="-1.47149337236923E-09"
        izz="2.805162477184E-08" />
    </inertial>
    <visual>
      <origin
        xyz="0 0 0"
        rpy="0 0 0" />
      <geometry>
        <mesh
          filename="package://prototype_urdf2/meshes/Back_Right_Wheel_Connect_L.STL" />
      </geometry>
      <material
        name="">
        <color
          rgba="1 0 0 1" />
      </material>
    </visual>
    <collision>
      <origin
        xyz="0 0 0"
        rpy="0 0 0" />
      <geometry>
        <mesh
          filename="package://prototype_urdf2/meshes/Back_Right_Wheel_Connect_L.STL" />
      </geometry>
    </collision>
  </link>
  <joint
    name="BRLA_joint_BRWC"
    type="revolute">
    <origin
      xyz="0 -0.088385 -0.0097003"
      rpy="-0.21347 0 0" />
    <parent
      link="Back_Right_Lower_Arm" />
    <child
      link="Back_Right_Wheel_Connect_L" />
    <axis
      xyz="-1 0 0" />
    <limit
      lower="0"
      upper="0"
      effort="0"
      velocity="0" />
  </joint>
  <link
    name="Back_Right_Suspension">
    <inertial>
      <origin
        xyz="-0.0250501195396812 0.00532528573434388 0.0578364361373782"
        rpy="0 0 0" />
      <mass
        value="0.0975010516337173" />
      <inertia
        ixx="7.92535130270421E-06"
        ixy="2.40205751875972E-09"
        ixz="2.07721001720319E-08"
        iyy="1.85918479783725E-05"
        iyz="-7.23412240509219E-07"
        izz="1.24383810777076E-05" />
    </inertial>
    <visual>
      <origin
        xyz="0 0 0"
        rpy="0 0 0" />
      <geometry>
        <mesh
          filename="package://prototype_urdf2/meshes/Back_Right_Suspension.STL" />
      </geometry>
      <material
        name="">
        <color
          rgba="0.752941176470588 0.752941176470588 0.752941176470588 1" />
      </material>
    </visual>
    <collision>
      <origin
        xyz="0 0 0"
        rpy="0 0 0" />
      <geometry>
        <mesh
          filename="package://prototype_urdf2/meshes/Back_Right_Suspension.STL" />
      </geometry>
    </collision>
  </link>
  <joint
    name="base_joint_BRS"
    type="prismatic">
    <origin
      xyz="-0.16528 0.19306 0.13323"
      rpy="1.6863 -1.1874 0" />
    <parent
      link="base_link" />
    <child
      link="Back_Right_Suspension" />
    <axis
      xyz="0 -0.11521 -0.99334" />
    <limit
      lower="-0.04"
      upper="0"
      effort="1000"
      velocity="1000" />
  </joint>
  <link
    name="Back_Right_Lower_Arm_S">
    <inertial>
      <origin
        xyz="-4.16333634234434E-16 -0.0151034357011682 -0.000327671875581984"
        rpy="0 0 0" />
      <mass
        value="0.0377520303994239" />
      <inertia
        ixx="2.67333578708892E-05"
        ixy="1.12227954004255E-20"
        ixz="-3.32135601854727E-21"
        iyy="6.42816105258092E-05"
        iyz="9.49601878939576E-06"
        izz="8.14259417304866E-05" />
    </inertial>
    <visual>
      <origin
        xyz="0 0 0"
        rpy="0 0 0" />
      <geometry>
        <mesh
          filename="package://prototype_urdf2/meshes/Back_Right_Lower_Arm_S.STL" />
      </geometry>
      <material
        name="">
        <color
          rgba="1 1 1 1" />
      </material>
    </visual>
    <collision>
      <origin
        xyz="0 0 0"
        rpy="0 0 0" />
      <geometry>
        <mesh
          filename="package://prototype_urdf2/meshes/Back_Right_Lower_Arm_S.STL" />
      </geometry>
    </collision>
  </link>
  <joint
    name="BRS_joint_BRLA"
    type="fixed">
    <origin
      xyz="-0.073326 -0.039657 0.063053"
      rpy="1.4009 1.4553 -1.5708" />
    <parent
      link="Back_Right_Suspension" />
    <child
      link="Back_Right_Lower_Arm_S" />
    <axis
      xyz="-1 0 0" />
  </joint>
</robot>
